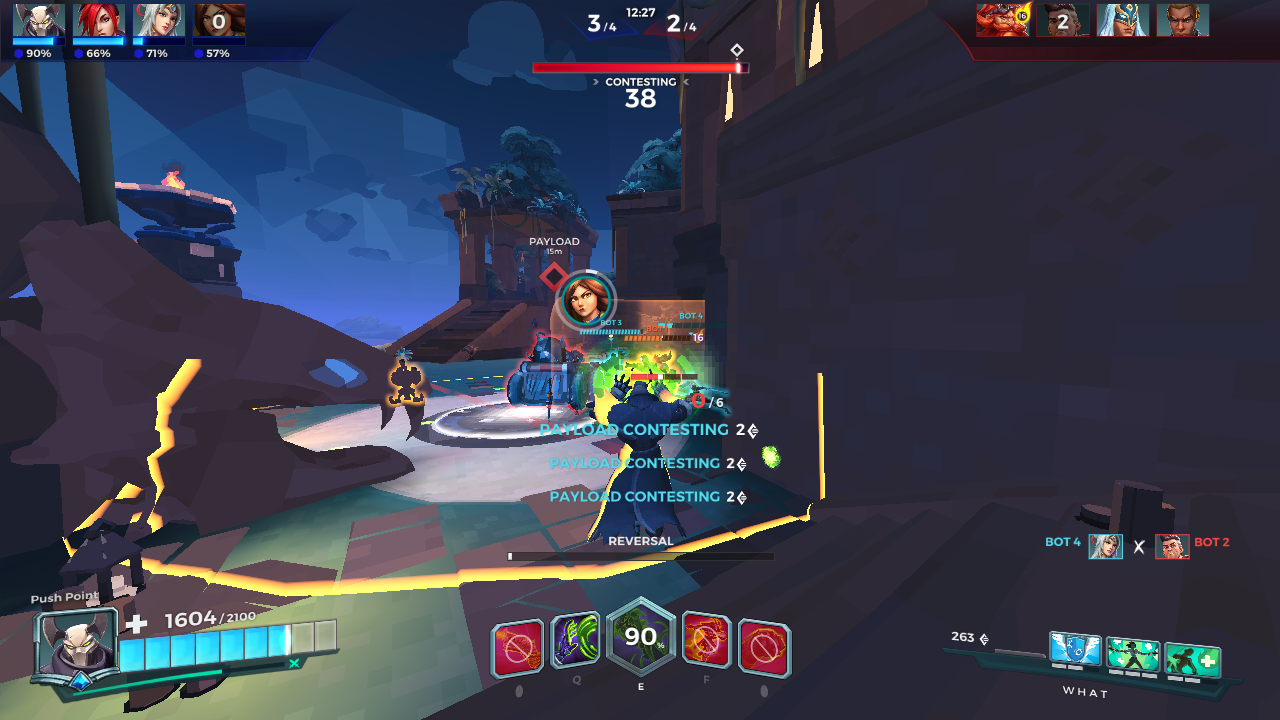model: (382, 361, 429, 411)
